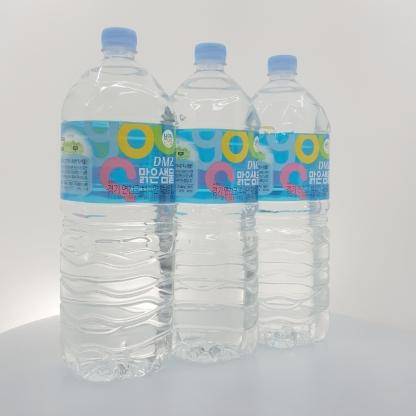--------1-5L: (61, 27, 177, 383), (159, 42, 262, 364), (233, 55, 331, 349)
